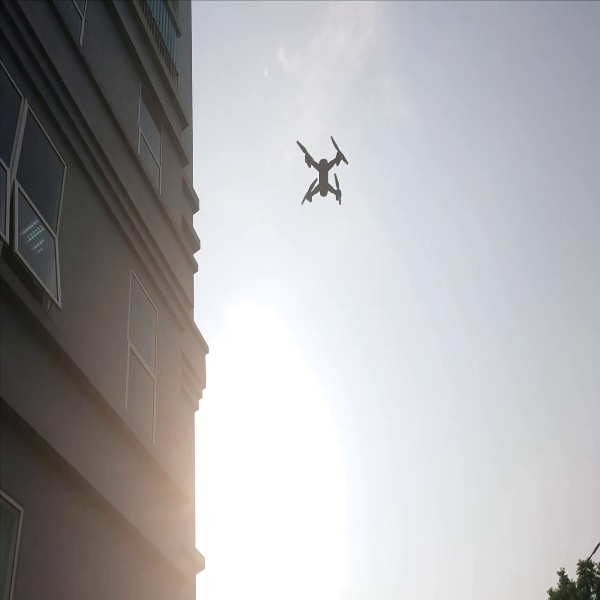drone: (285, 129, 361, 222)
